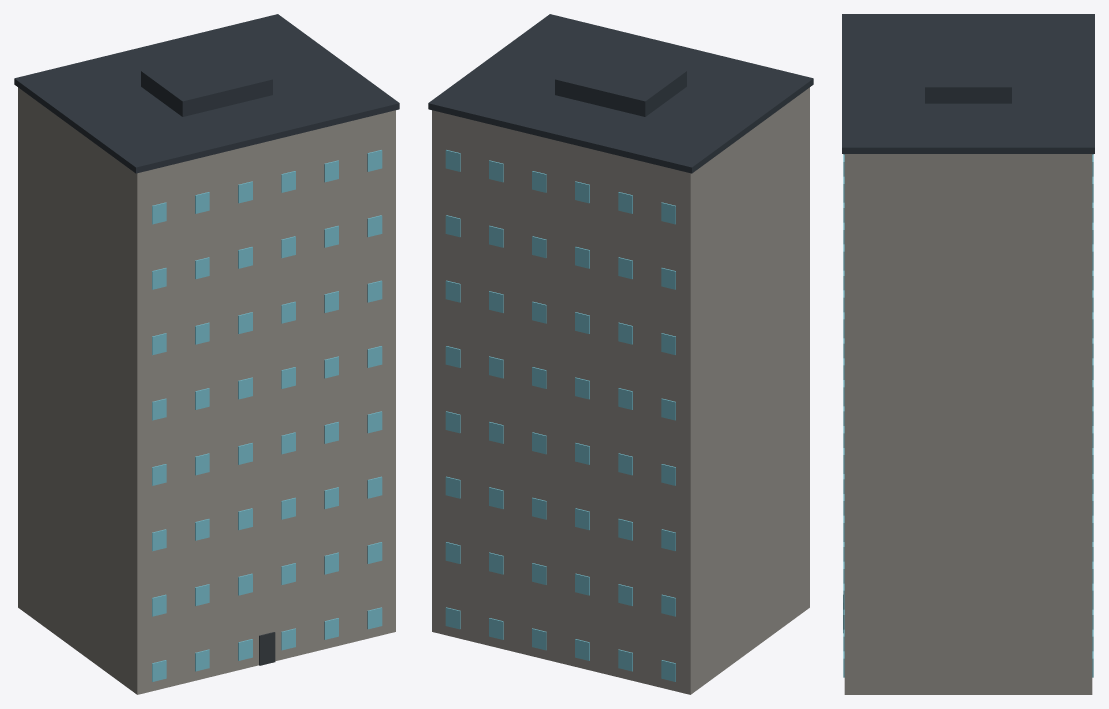
File: apartment_highrise.glb
3 renders of one model, left to right at view 1: azimuth 30°, elevation 25°; view 2: azimuth 150°, elevation 25°; view 3: azimuth 270°, elevation 25°, orthographic. The views are drawn at different scales.
Visible parts, largest first — view 1: body, roof, mech; view 2: body, roof, mech; view 3: body, roof, mech.
Part boxes in pixels (x1,y1,x2,y2): body: (18,87,395,694); roof: (14,14,399,173); mech: (141,49,272,116); body: (432,87,809,694); roof: (428,14,813,173); mech: (555,49,686,116); body: (844,154,1092,694); roof: (842,14,1094,153); mech: (925,41,1011,103).
Bounding box in the file's own units: 20.4 × 40.24 × 16.32.
